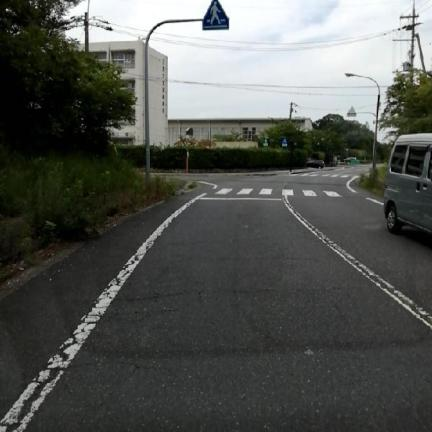Road: (0, 167, 431, 431)
